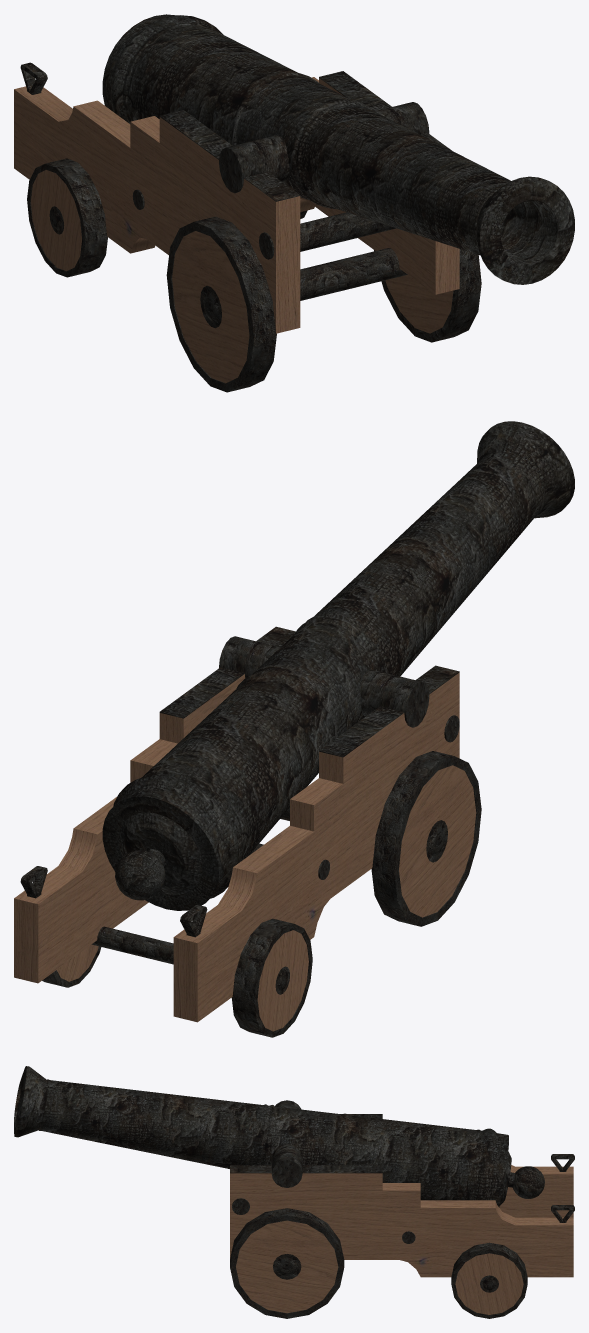
File: Ship.Cannon.01.fbx
The picture shows the model from 3 angles, top to bottom: view 1: azimuth 30°, elevation 25°; view 2: azimuth 150°, elevation 25°; view 3: azimuth 270°, elevation 25°; orthographic projection. The views are drawn at different scales.
Visible parts, largest first — view 1: Base, Gun; view 2: Base, Gun; view 3: Base, Gun.
Part boxes in pixels (x1,y1,x2,y2): Base: [14, 62, 481, 392]; Gun: [102, 14, 574, 284]; Base: [14, 626, 481, 1037]; Gun: [102, 421, 574, 910]; Base: [230, 1100, 574, 1318]; Gun: [14, 1066, 544, 1207].
Bounding box in the file's own units: 80.07 × 108 × 259.
